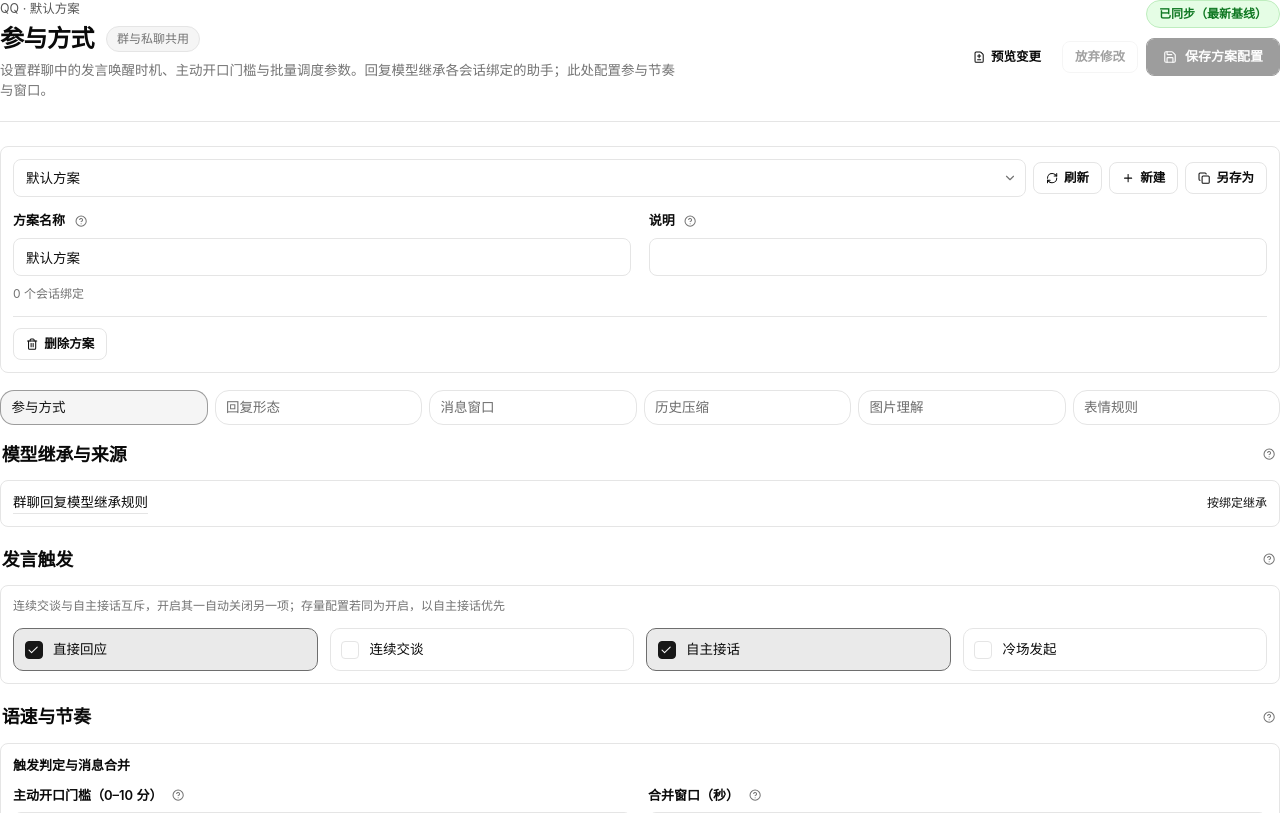
Scheme change preview usability › labels only real switches on/off and leaves text that reads true or 开/关 untouched
Click the checkbox named "直接回应" next to "直接回应" at (34, 650), box [24,642,42,660]
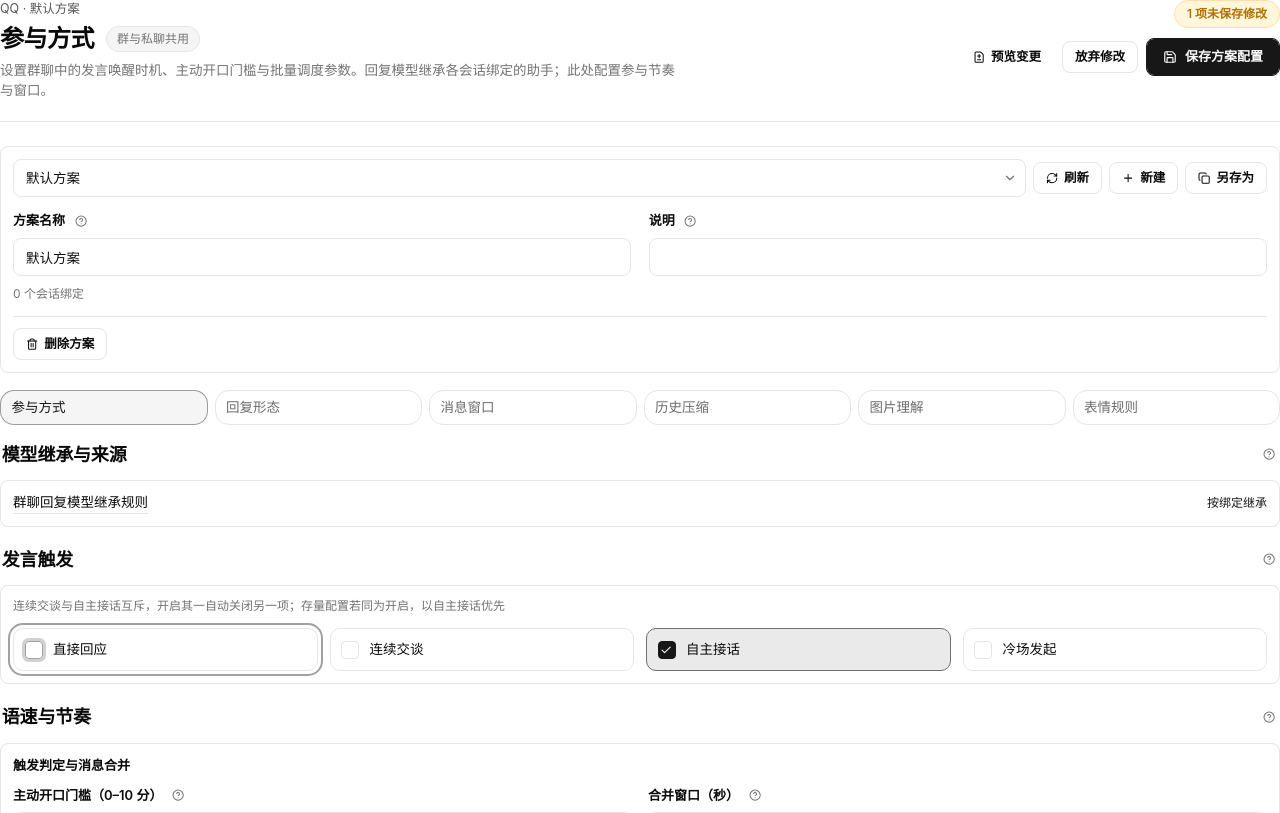
Type "true" into the field labelled "说明" at (958, 257), box [649,238,1267,276]
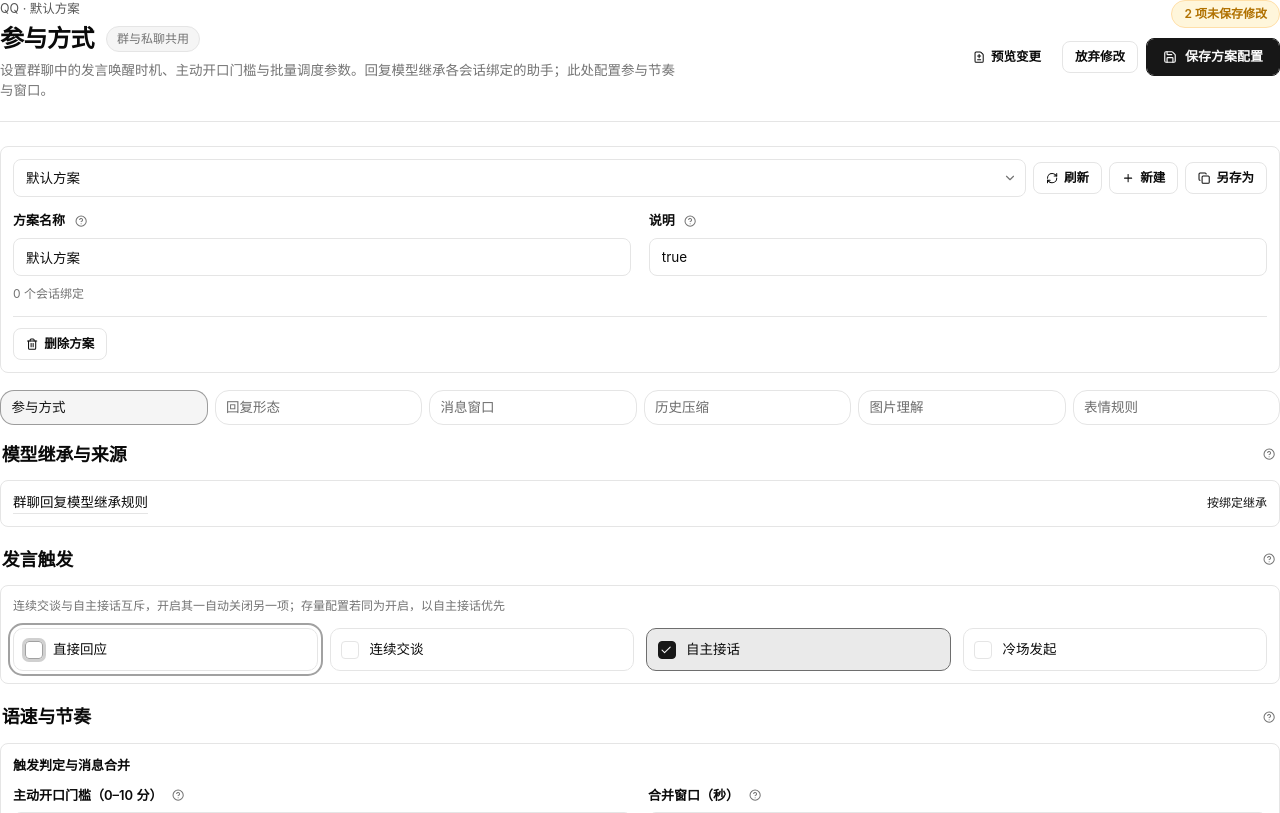
Click the tab with aria-label "回复方式" at (318, 408), box [214,390,422,425]
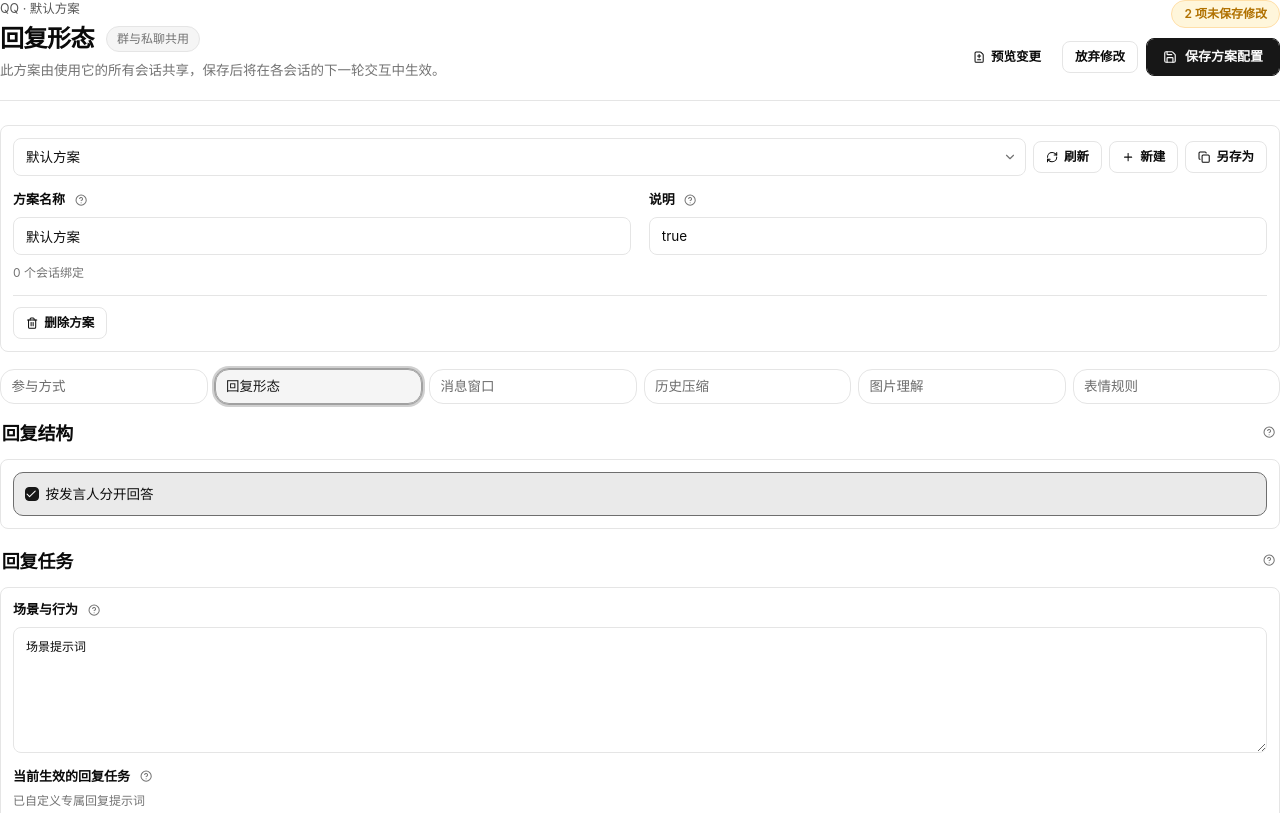
Replace the text in the text box labelled "场景与行为" with "开/关/true" at (640, 690), box [13,626,1267,752]
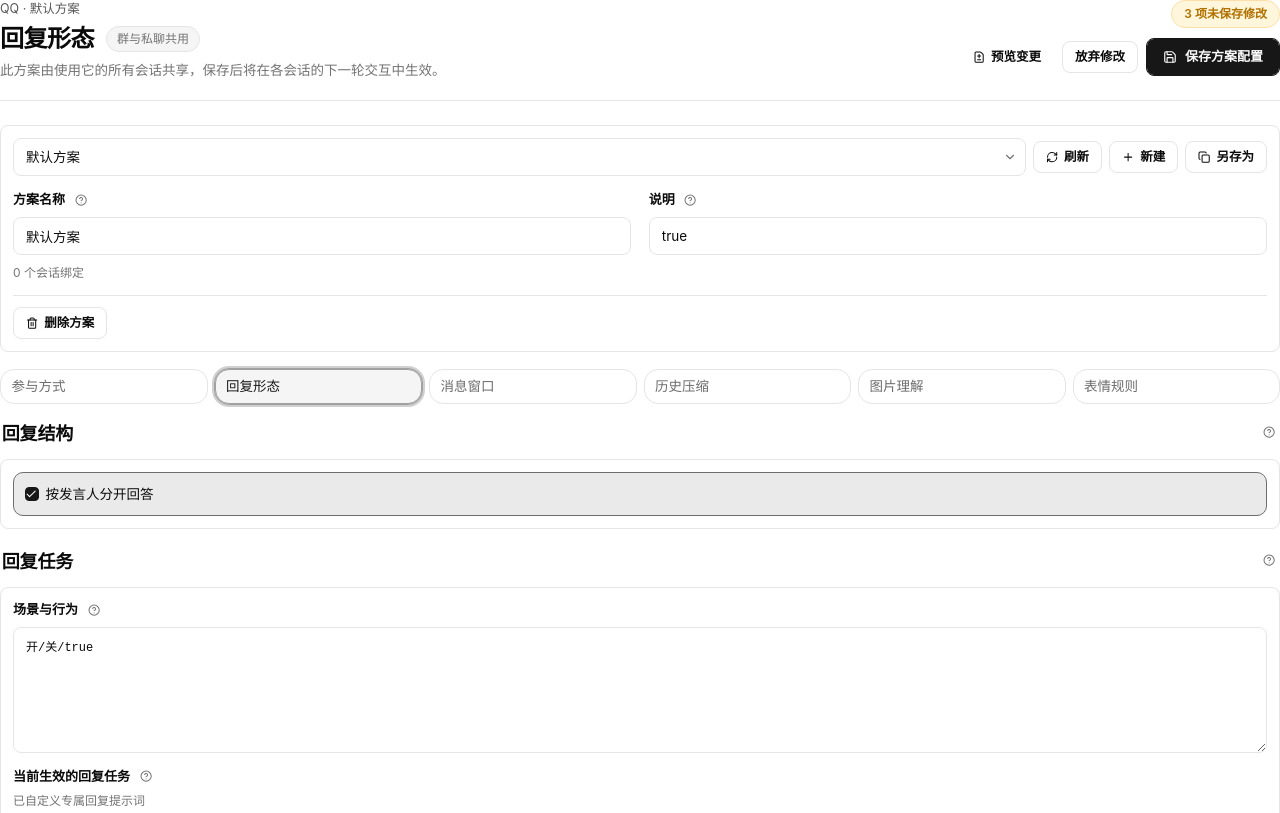
Click the button "预览变更" at (1007, 57), box [960,41,1054,73]
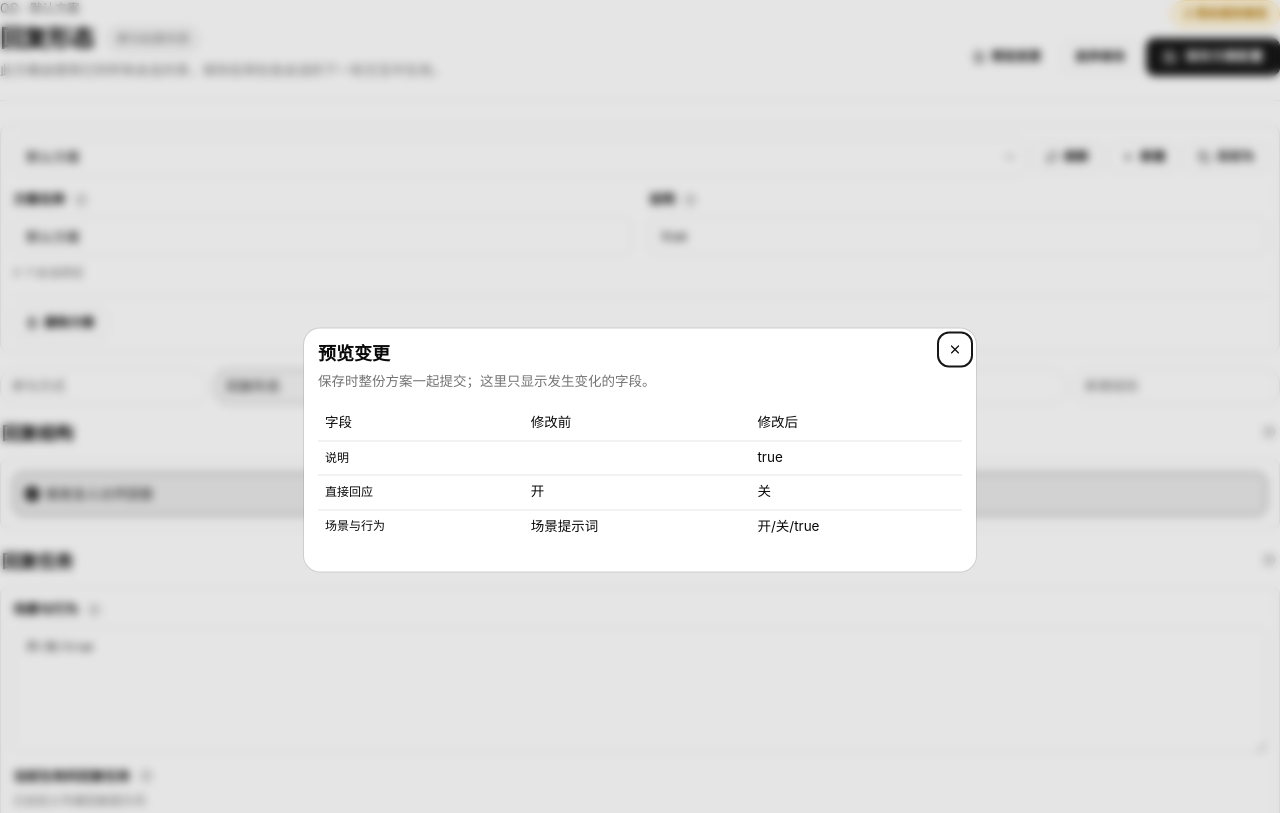
expect the text "开" is shown: met, box [524,475,750,510]
expect the text "关" is shown: met, box [750,475,962,510]
expect the text "true" is shown: met, box [750,441,962,476]
